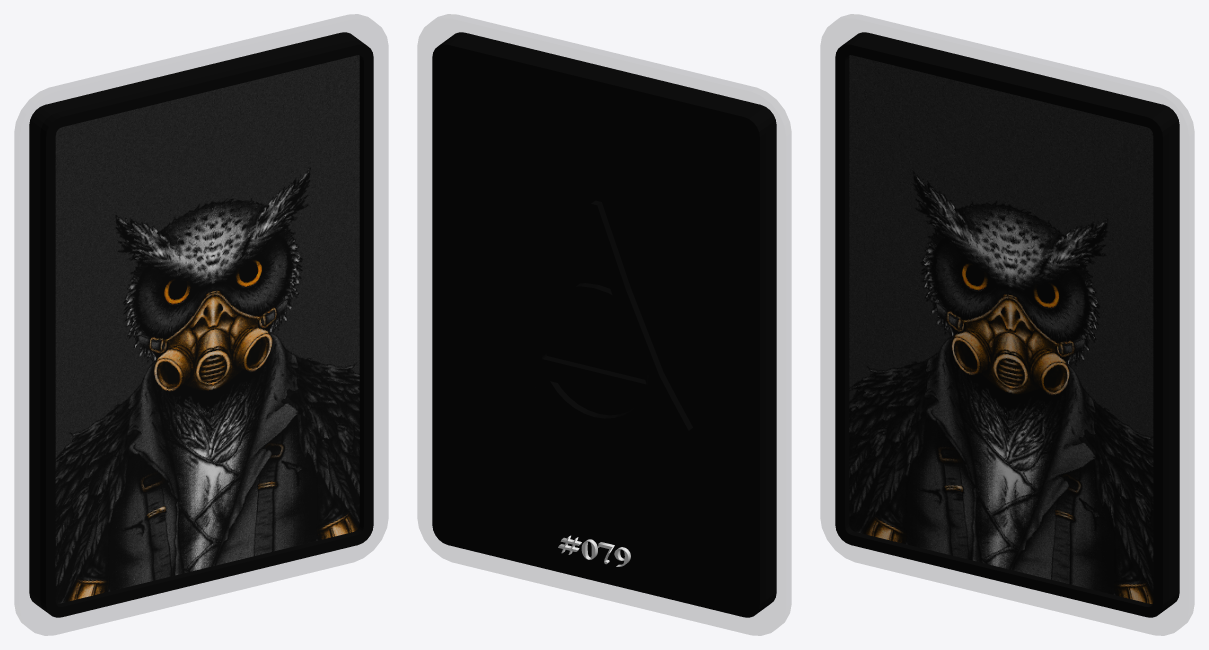
The picture shows the model from 3 angles, left to right: view 1: azimuth 30°, elevation 25°; view 2: azimuth 150°, elevation 25°; view 3: azimuth 330°, elevation 25°; orthographic projection.
Visible parts, largest first — view 1: Card.147, CardBorder.147; view 2: Card.147, CardBorder.147, Площина.040, Текст; view 3: Card.147, CardBorder.147.
Part boxes in pixels (box(x1,y1,x2,y2)): Card.147: box(29, 32, 373, 617); CardBorder.147: box(15, 14, 387, 635); Card.147: box(432, 32, 776, 617); CardBorder.147: box(418, 14, 790, 635); Площина.040: box(500, 200, 692, 436); Текст: box(558, 535, 630, 566); Card.147: box(835, 32, 1179, 617); CardBorder.147: box(821, 14, 1193, 635).
Size of the model in its own units: 1.1 by 1.55 by 0.1091.
Materials: 5 (1 with a texture image).
